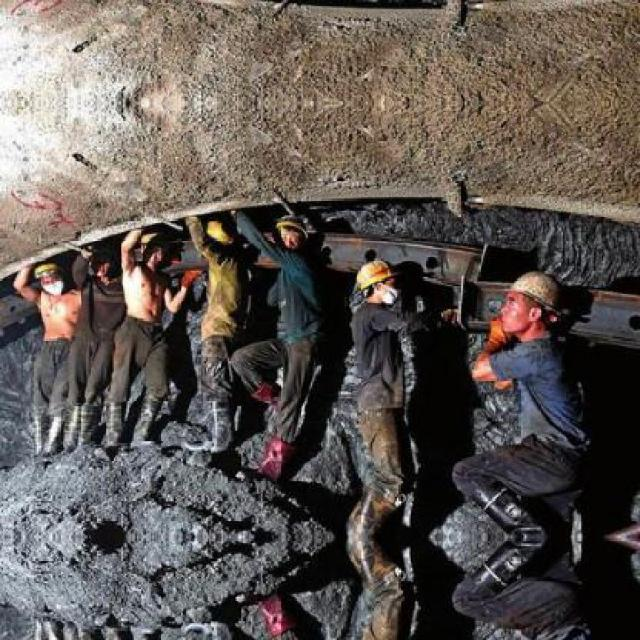helmet: (494, 266, 560, 332), (357, 255, 397, 308), (198, 217, 236, 260), (270, 212, 308, 250), (137, 228, 168, 264), (34, 256, 64, 290), (89, 241, 118, 276)
